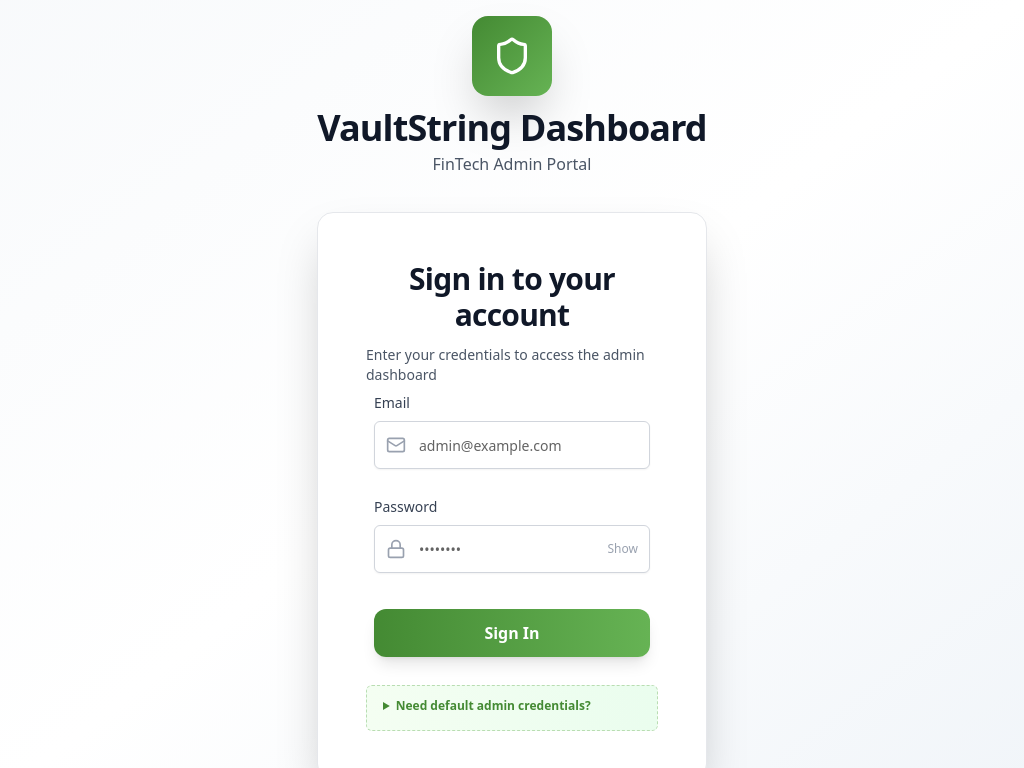
LoginPage › shows error message on invalid credentials
This screenshot has width=1024, height=768.
Type "admin@kyd.com" into the field labelled "Email" at coordinates (512, 445), box [374,421,650,469]
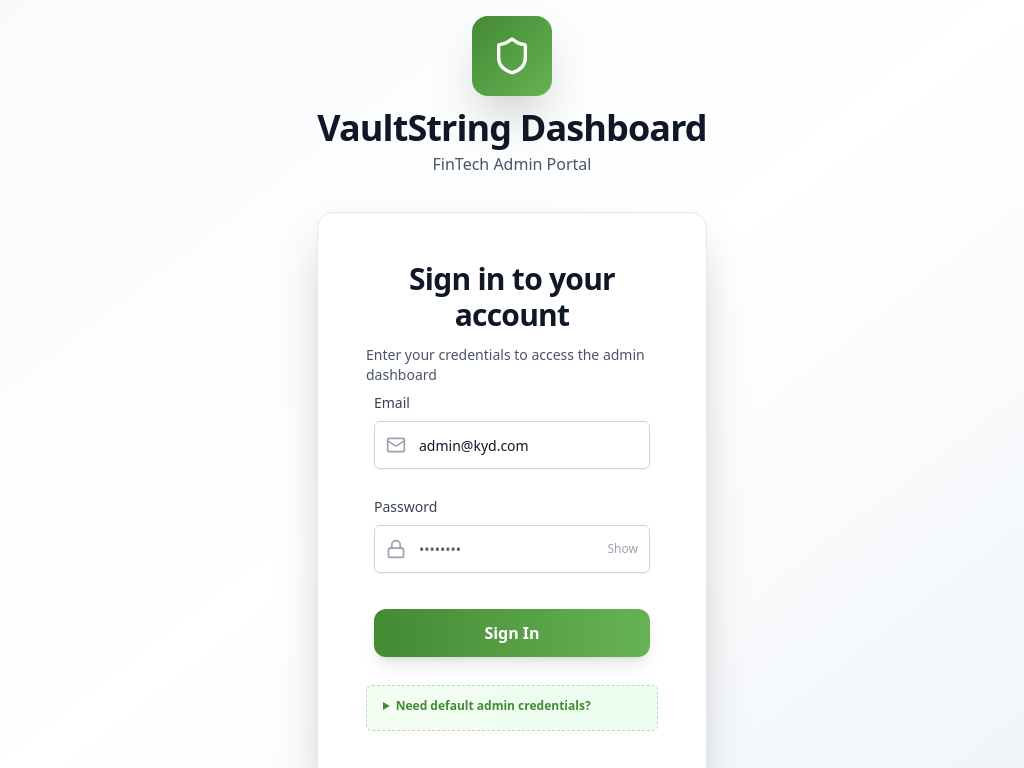
Type "wrongpassword" into the password field labelled "Password" at coordinates (512, 549), box [374,525,650,573]
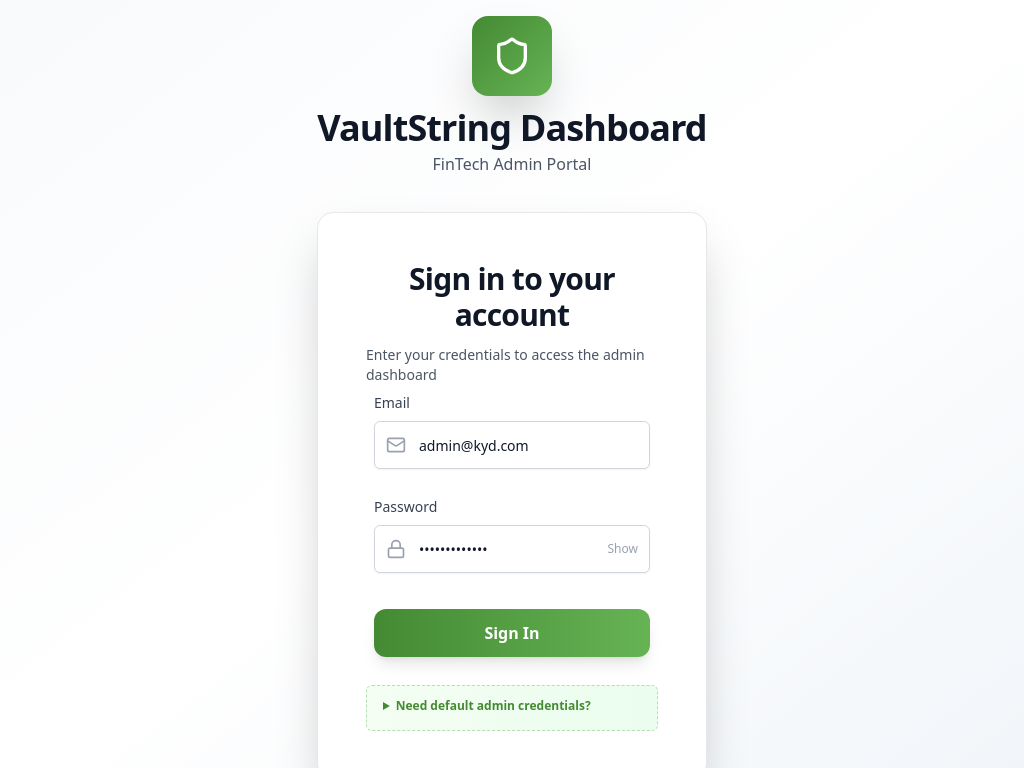
Click the button "Sign In" at coordinates (512, 633), box [374,609,650,657]
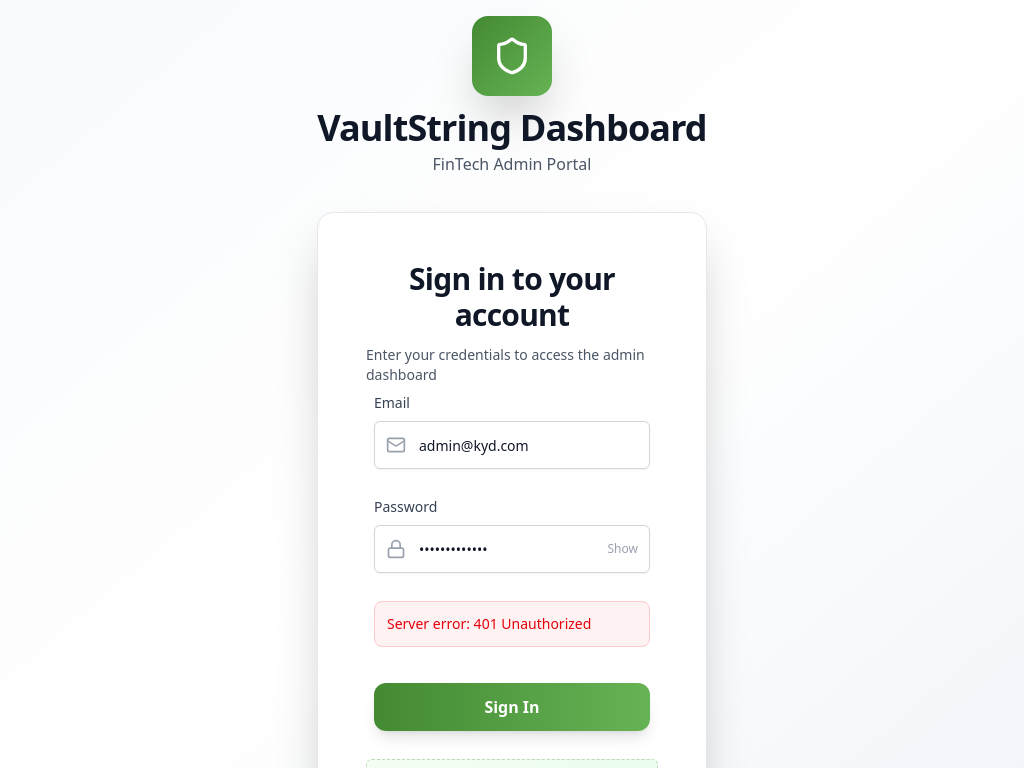
Check: the message "Server error: 401 Unauthorized" is shown, box [387,614,591,633]
